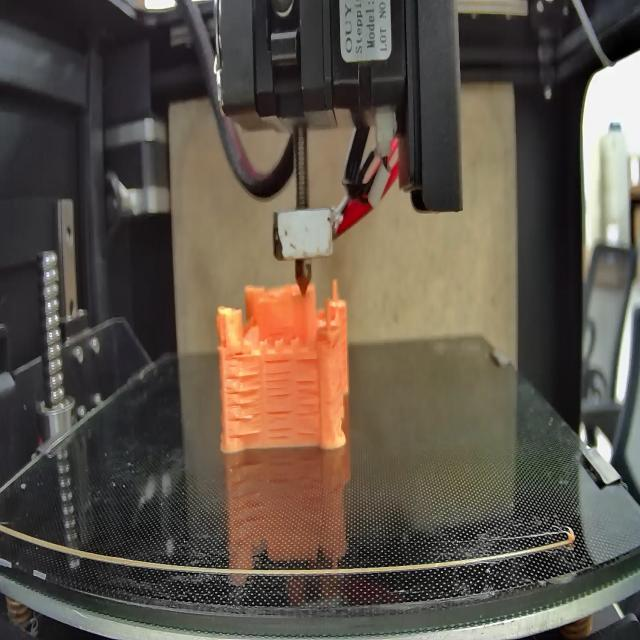cracks: (223, 372, 263, 439), (293, 377, 323, 438), (264, 357, 290, 398), (266, 405, 292, 440), (294, 357, 319, 366)
